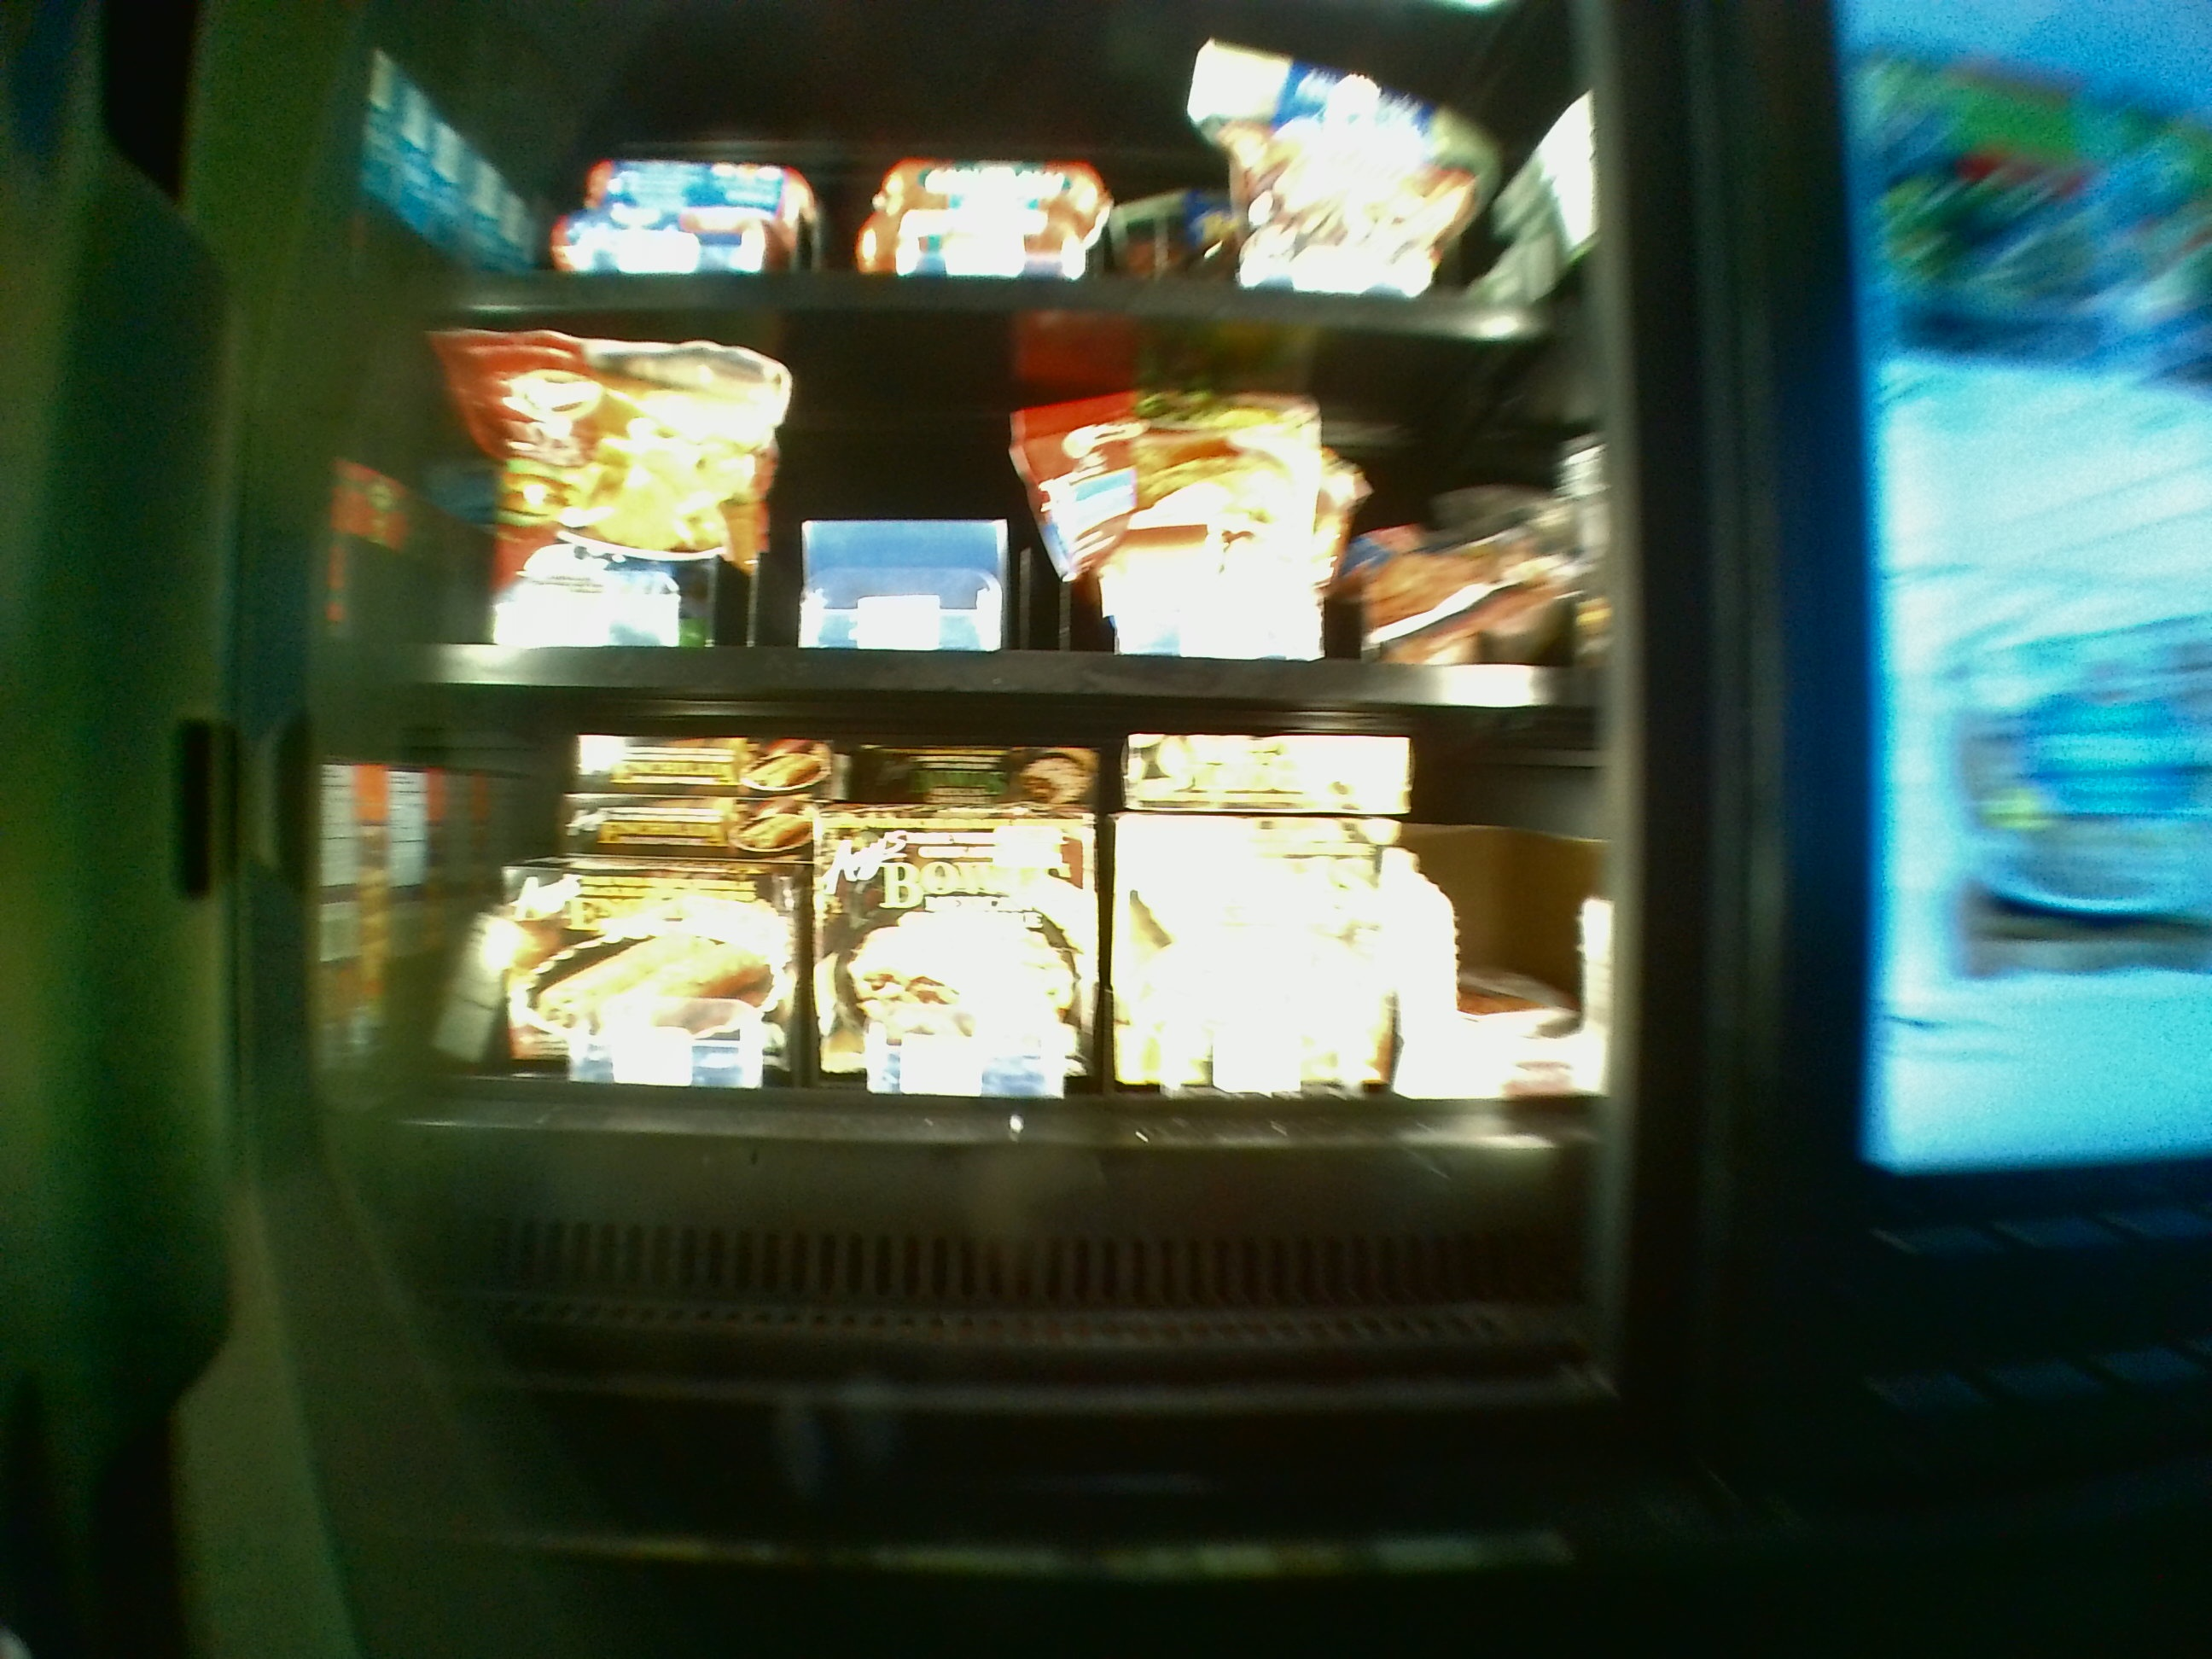shelf: (369, 728, 1611, 1368), (364, 319, 1599, 713)
